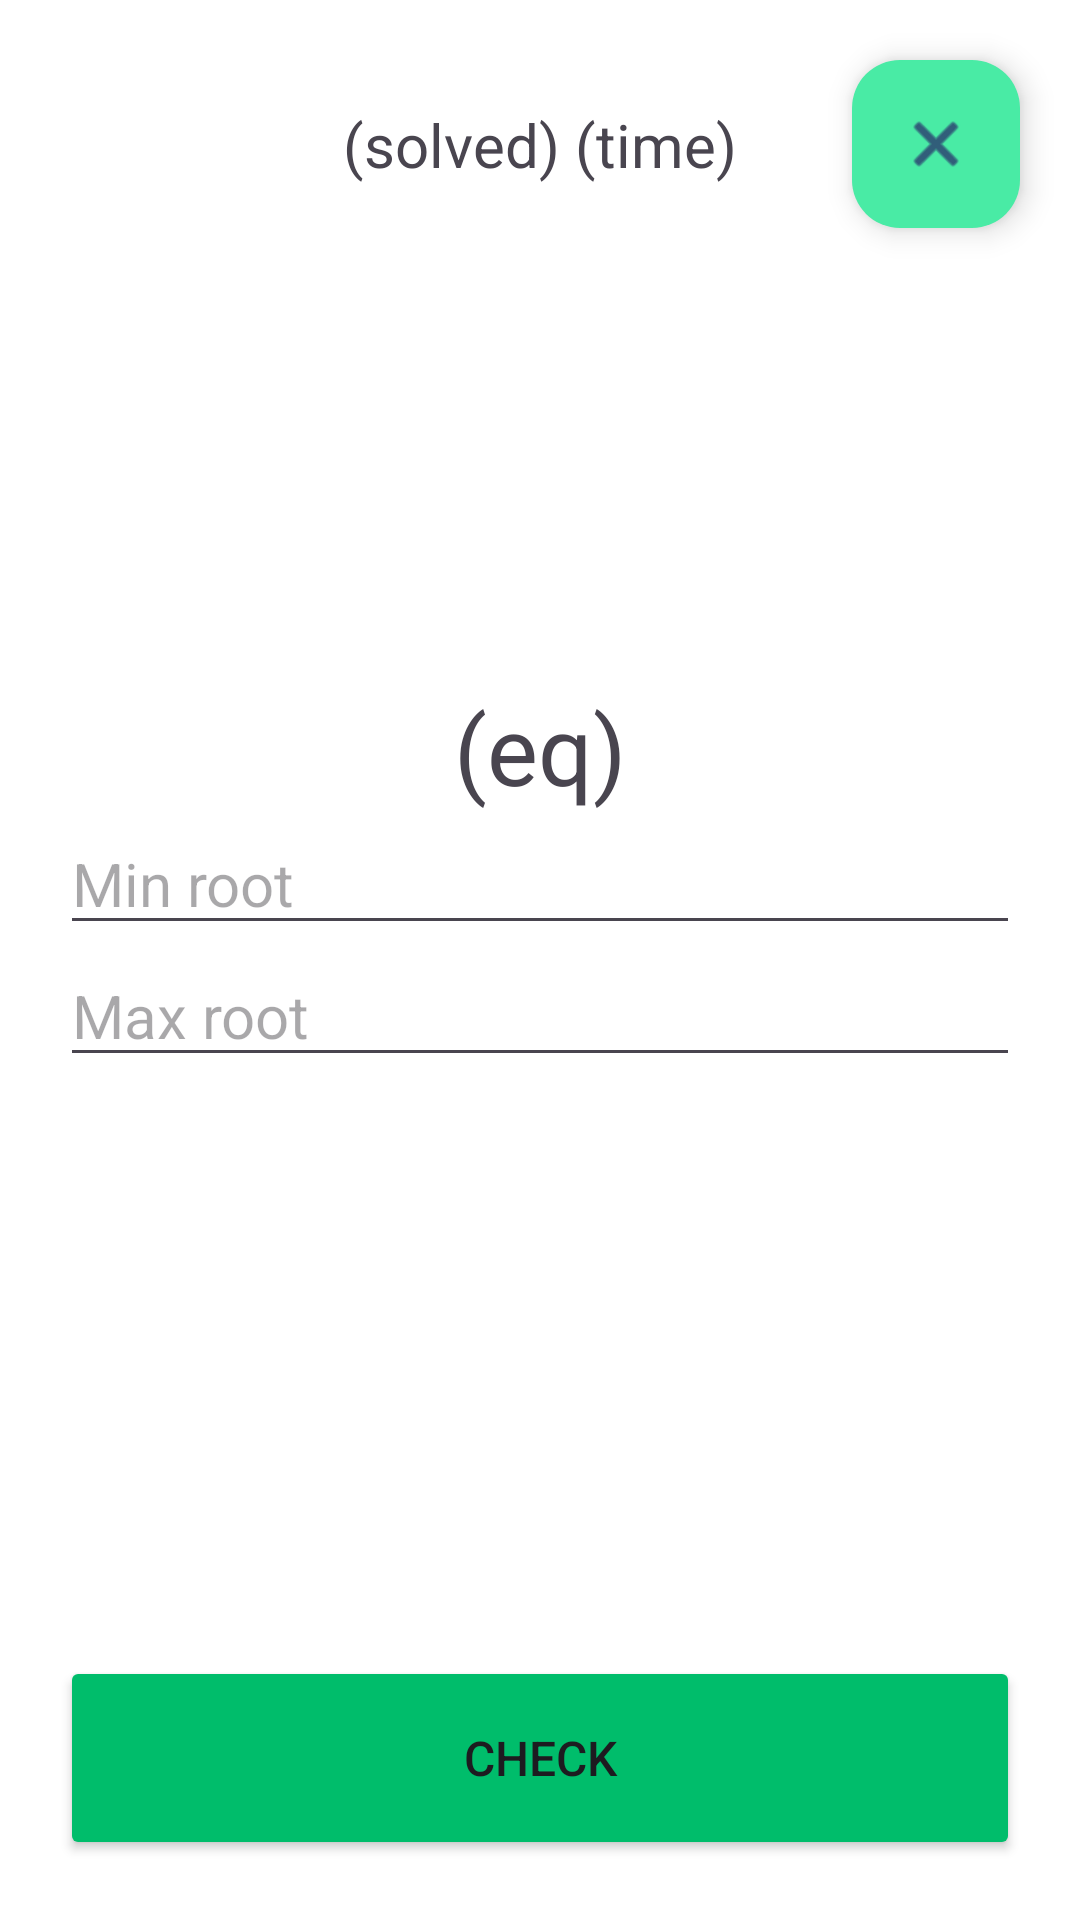

Icon bounding boxes for this 1080×1920 phone screenshot, format (x1, y1, x2, y2):
close clear cancel: (852, 60, 1020, 228)
